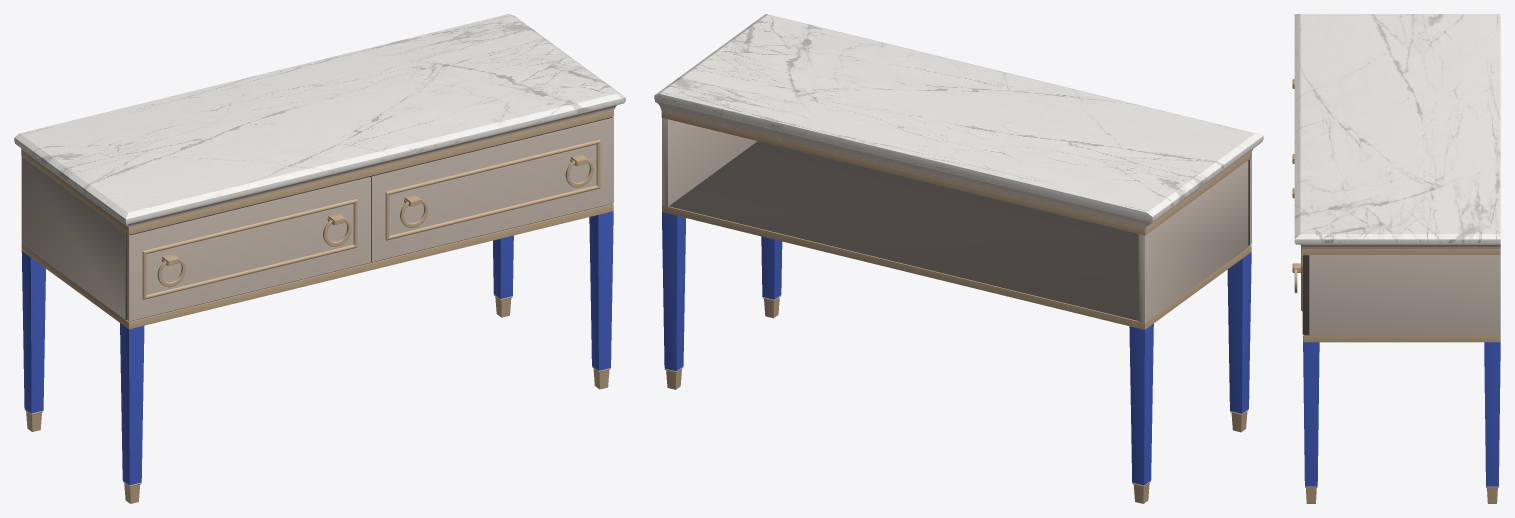
3 renders of one model, left to right at view 1: azimuth 30°, elevation 25°; view 2: azimuth 150°, elevation 25°; view 3: azimuth 270°, elevation 25°, orthographic. The views are drawn at different scales.
Visible parts, largest first — view 1: AV02; view 2: AV02; view 3: AV02.
Boxes of the visible parts, x1,y1,x2,y2 form: AV02: (14,14,625,503); AV02: (654,14,1263,503); AV02: (1292,14,1500,503).
Bounding box in the file's own units: 1.45 × 0.8166 × 0.5664.
6 materials, 3 textured.
